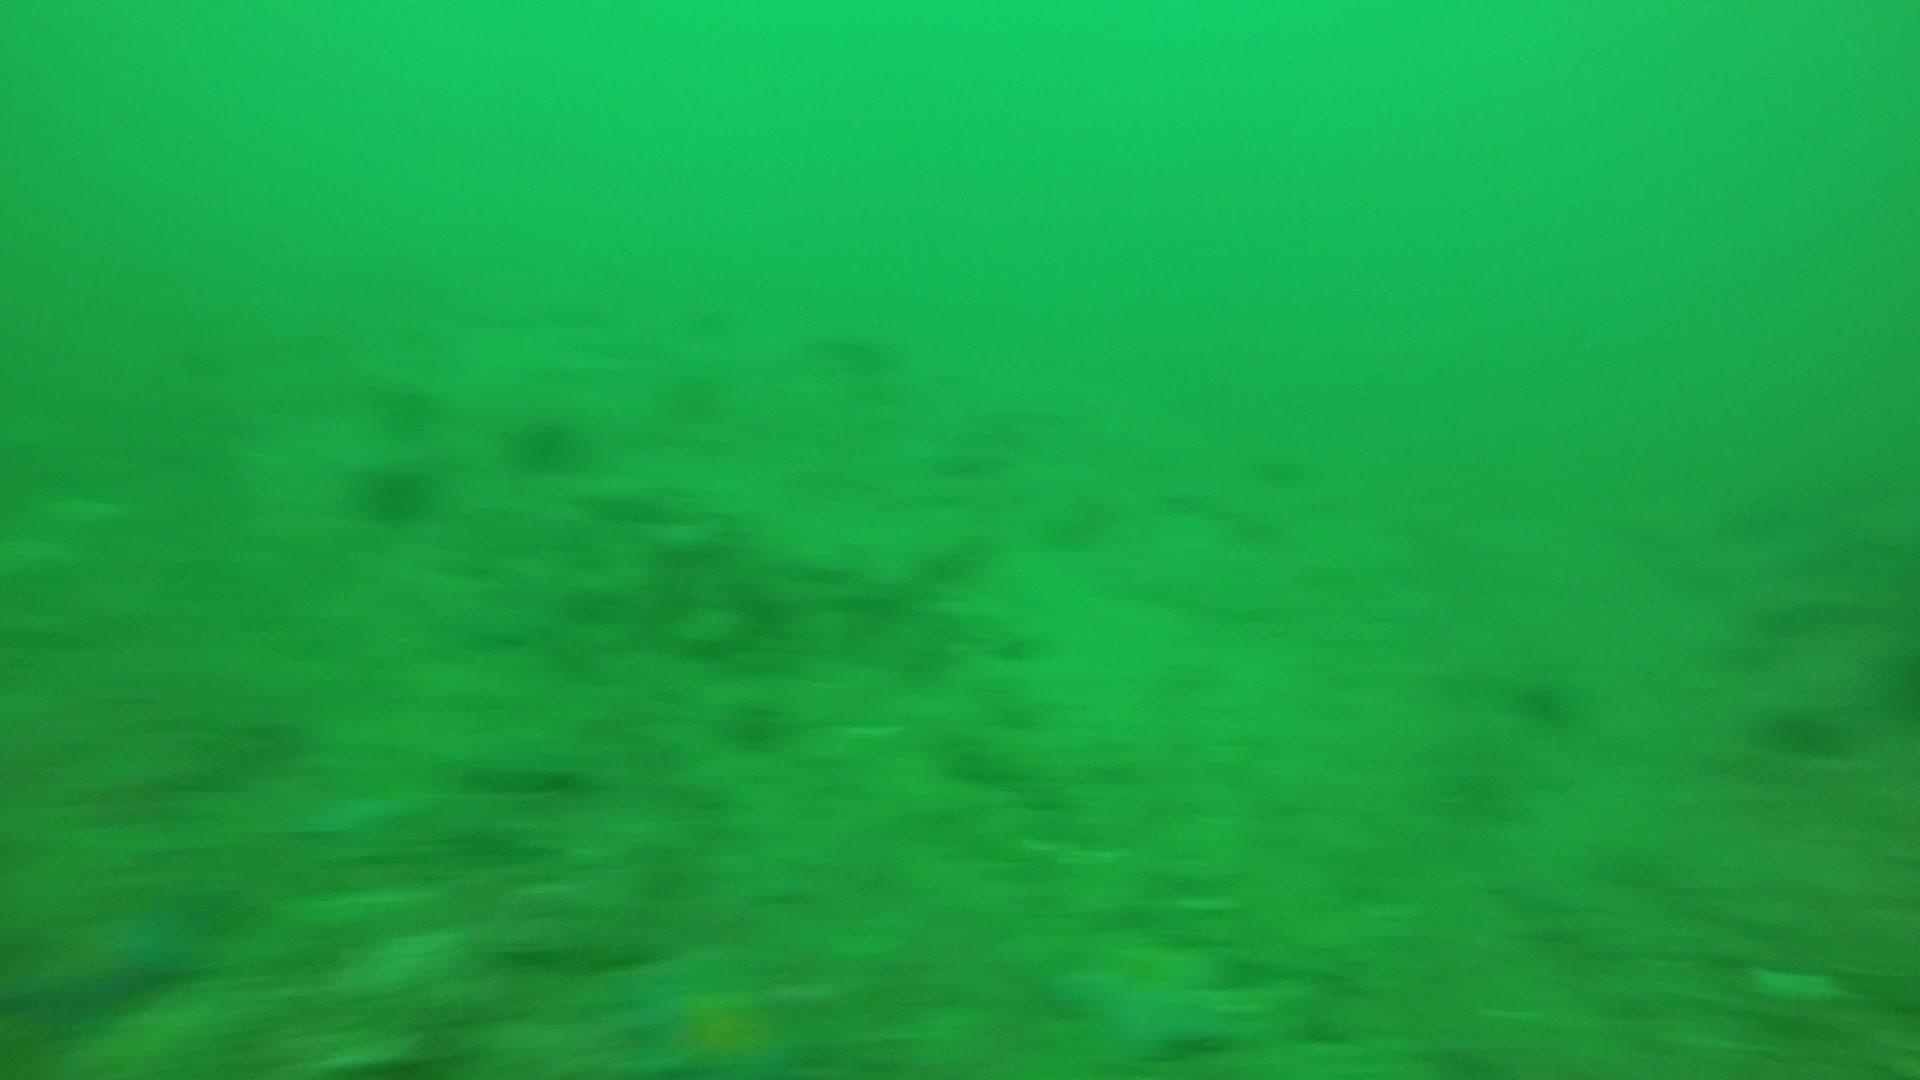echinus: (1753, 694, 1858, 766), (349, 452, 440, 529), (709, 680, 799, 757), (504, 404, 593, 477), (1505, 665, 1584, 732), (371, 375, 444, 440)
starfish: (1040, 922, 1253, 1063), (5, 887, 216, 1023), (621, 968, 818, 1077)
